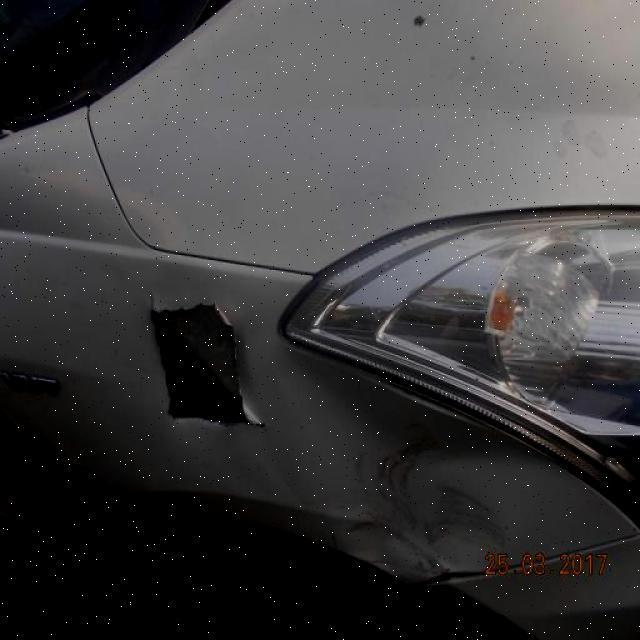car damage: (286, 354, 521, 587), (143, 293, 269, 435)
